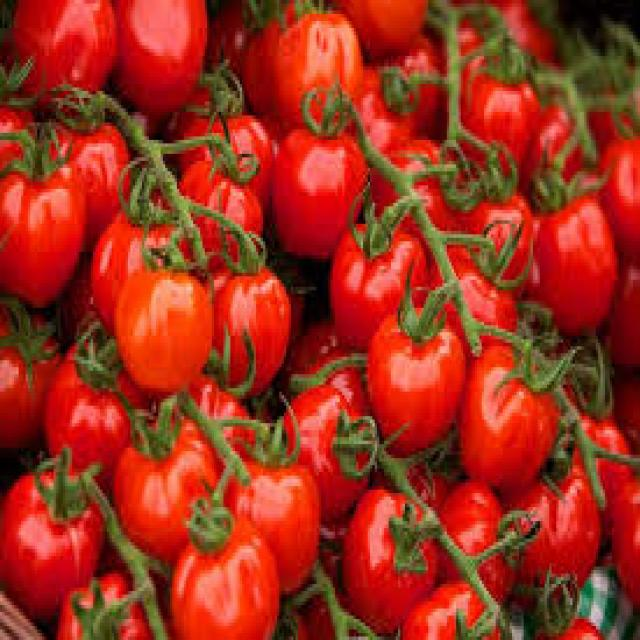Tomato: (102, 239, 234, 395), (133, 512, 292, 640), (254, 110, 371, 264), (473, 302, 553, 506), (100, 419, 226, 546), (375, 300, 465, 451), (2, 149, 81, 314)
